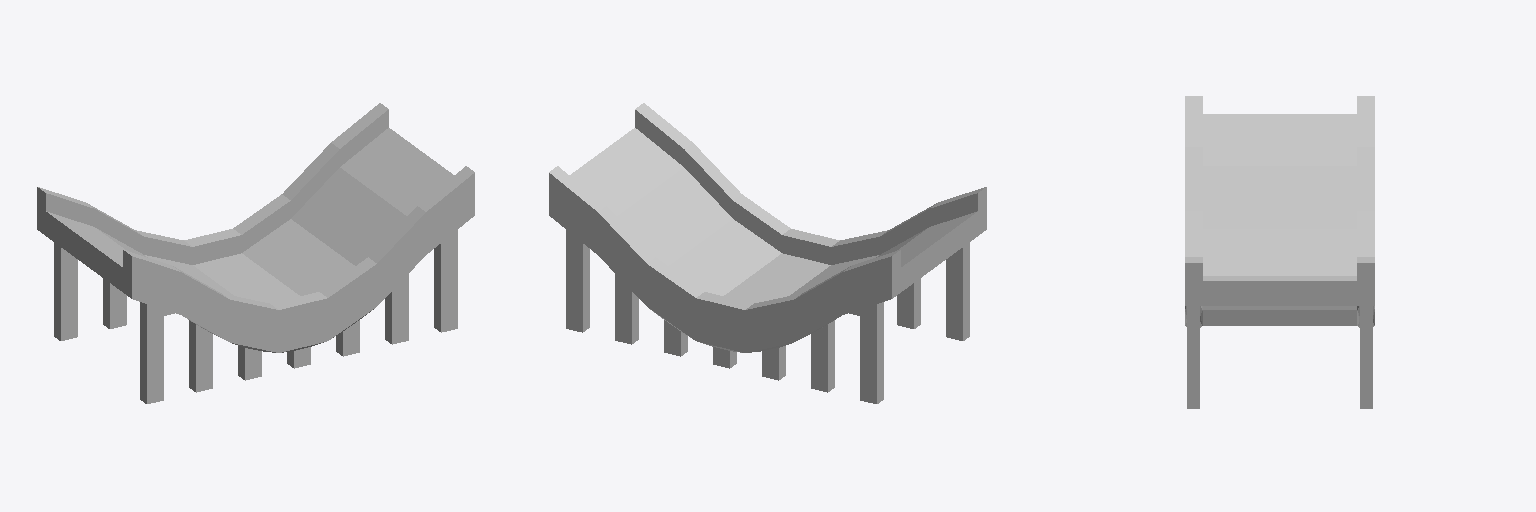
The model's file is bridgeinter.obj.
3 renders of one model, left to right at view 1: azimuth 30°, elevation 25°; view 2: azimuth 150°, elevation 25°; view 3: azimuth 270°, elevation 25°, orthographic.
Visible parts, largest first — view 1: pCube14; view 2: pCube14; view 3: pCube14.
Part boxes in pixels (left/top/right/bottom): pCube14: left=37, top=103, right=474, bottom=403; pCube14: left=549, top=103, right=986, bottom=403; pCube14: left=1185, top=96, right=1374, bottom=408.
Bounding box in the file's own units: 2.5 × 1.07 × 1.2.